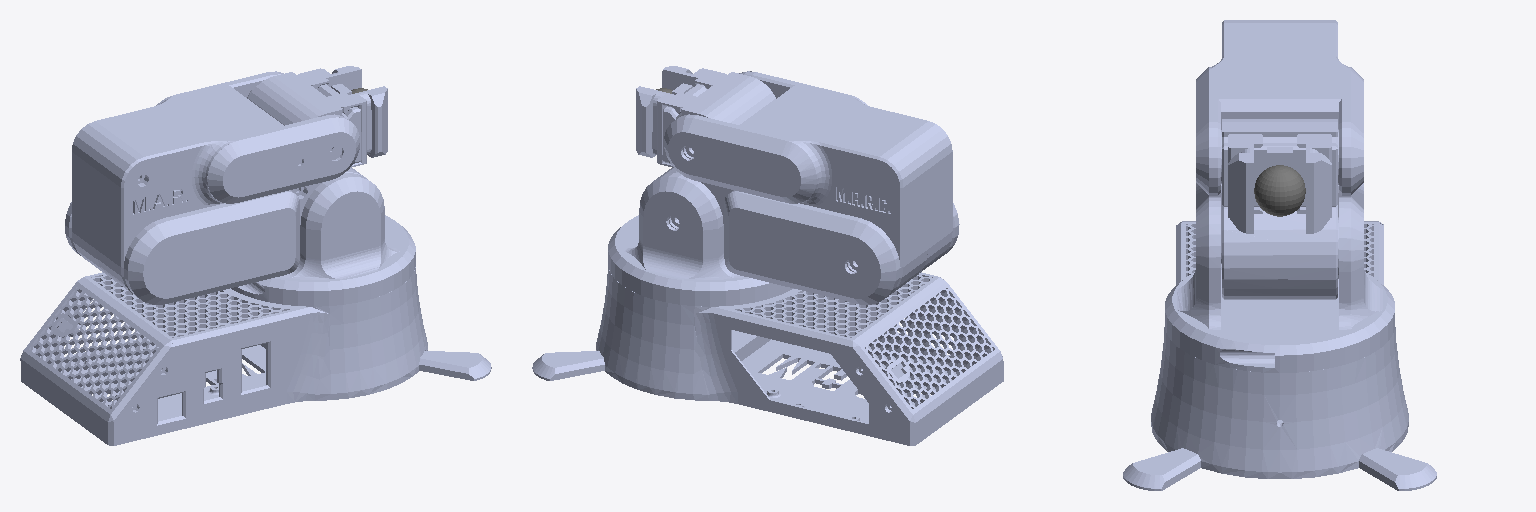
The robot description file, URDF, robot "marc":

<!-- This URDF was automatically created by SolidWorks to URDF Exporter! Originally created by [author] ([email redacted]) 
     Commit Version: 1.6.0-4-g7f85cfe  Build Version: 1.6.7995.38578
     For more information, please see http://wiki.ros.org/sw_urdf_exporter -->
<robot
  name="marc">
  <link
    name="base_link">
    <inertial>
      <origin
        xyz="-0.019326 -0.0015141 0.022149"
        rpy="0 0 0" />
      <mass
        value="0.13112" />
      <inertia
        ixx="0.00013465"
        ixy="-7.8684E-06"
        ixz="-7.1281E-09"
        iyy="0.00021462"
        iyz="2.4514E-06"
        izz="0.0003101" />
    </inertial>
    <visual>
      <origin
        xyz="0 0 0"
        rpy="0 0 0" />
      <geometry>
        <mesh
          filename="package://marc/meshes/base_link.STL" />
      </geometry>
      <material
        name="">
        <color
          rgba="0.79216 0.81961 0.93333 1" />
      </material>
    </visual>
    <collision>
      <origin
        xyz="0 0 0"
        rpy="0 0 0" />
      <geometry>
        <mesh
          filename="package://marc/meshes/base_link.STL" />
      </geometry>
    </collision>
  </link>
  <link
    name="shoulder_link">
    <inertial>
      <origin
        xyz="0.0014606 -0.0022185 0.0033448"
        rpy="0 0 0" />
      <mass
        value="0.055252" />
      <inertia
        ixx="1.5922E-05"
        ixy="1.9743E-08"
        ixz="-8.4955E-08"
        iyy="3.3192E-05"
        iyz="7.5752E-08"
        izz="3.0288E-05" />
    </inertial>
    <visual>
      <origin
        xyz="0 0 0"
        rpy="0 0 0" />
      <geometry>
        <mesh
          filename="package://marc/meshes/shoulder_link.STL" />
      </geometry>
      <material
        name="">
        <color
          rgba="0.79216 0.81961 0.93333 1" />
      </material>
    </visual>
    <collision>
      <origin
        xyz="0 0 0"
        rpy="0 0 0" />
      <geometry>
        <mesh
          filename="package://marc/meshes/shoulder_link.STL" />
      </geometry>
    </collision>
  </link>
  <joint
    name="shoulder_joint"
    type="revolute">
    <origin
      xyz="-0.0020793 0 0.0535"
      rpy="0 0 0" />
    <parent
      link="base_link" />
    <child
      link="shoulder_link" />
    <axis
      xyz="-0.038837 0 0.99925" />
    <limit
      lower="-1.57"
      upper="1.57"
      effort="10.5"
      velocity="1.5" />
  </joint>
  <link
    name="upper_arm_link">
    <inertial>
      <origin
        xyz="-0.044247 -0.034465 -0.00034531"
        rpy="0 0 0" />
      <mass
        value="0.074807" />
      <inertia
        ixx="1.773E-05"
        ixy="-2.1148E-06"
        ixz="-5.6426E-07"
        iyy="8.8688E-05"
        iyz="1.1069E-08"
        izz="8.1791E-05" />
    </inertial>
    <visual>
      <origin
        xyz="0 0 0"
        rpy="0 0 0" />
      <geometry>
        <mesh
          filename="package://marc/meshes/upper_arm_link.STL" />
      </geometry>
      <material
        name="">
        <color
          rgba="0.79216 0.81961 0.93333 1" />
      </material>
    </visual>
    <collision>
      <origin
        xyz="0 0 0"
        rpy="0 0 0" />
      <geometry>
        <mesh
          filename="package://marc/meshes/upper_arm_link.STL" />
      </geometry>
    </collision>
  </link>
  <joint
    name="upper_arm_joint"
    type="revolute">
    <origin
      xyz="0.0020885 0.0295 0.022"
      rpy="0 0 0" />
    <parent
      link="shoulder_link" />
    <child
      link="upper_arm_link" />
    <axis
      xyz="0 -1 0" />
    <limit
      lower="-3.1"
      upper="0"
      effort="10.5"
      velocity="1.5" />
  </joint>
  <link
    name="elbow_link">
    <inertial>
      <origin
        xyz="0.024238 -0.030035 0.02628"
        rpy="0 0 0" />
      <mass
        value="0.068113" />
      <inertia
        ixx="2.9647E-05"
        ixy="-1.2047E-06"
        ixz="-1.1982E-05"
        iyy="8.2704E-05"
        iyz="-1.1176E-07"
        izz="6.1384E-05" />
    </inertial>
    <visual>
      <origin
        xyz="0 0 0"
        rpy="0 0 0" />
      <geometry>
        <mesh
          filename="package://marc/meshes/elbow_link.STL" />
      </geometry>
      <material
        name="">
        <color
          rgba="0.79216 0.81961 0.93333 1" />
      </material>
    </visual>
    <collision>
      <origin
        xyz="0 0 0"
        rpy="0 0 0" />
      <geometry>
        <mesh
          filename="package://marc/meshes/elbow_link.STL" />
      </geometry>
    </collision>
  </link>
  <joint
    name="elbow_joint"
    type="revolute">
    <origin
      xyz="-0.09 0 0"
      rpy="0 0 0" />
    <parent
      link="upper_arm_link" />
    <child
      link="elbow_link" />
    <axis
      xyz="0 -1 0" />
    <limit
      lower="0"
      upper="3.1"
      effort="10.5"
      velocity="1.5" />
  </joint>
  <link
    name="wrist_link">
    <inertial>
      <origin
        xyz="0.0031699 -0.028754 8.9392E-06"
        rpy="0 0 0" />
      <mass
        value="0.027875" />
      <inertia
        ixx="9.2319E-06"
        ixy="-4.769E-07"
        ixz="9.4703E-10"
        iyy="3.9611E-06"
        iyz="-1.3442E-09"
        izz="8.8951E-06" />
    </inertial>
    <visual>
      <origin
        xyz="0 0 0"
        rpy="0 0 0" />
      <geometry>
        <mesh
          filename="package://marc/meshes/wrist_link.STL" />
      </geometry>
      <material
        name="">
        <color
          rgba="0.79216 0.81961 0.93333 1" />
      </material>
    </visual>
    <collision>
      <origin
        xyz="0 0 0"
        rpy="0 0 0" />
      <geometry>
        <mesh
          filename="package://marc/meshes/wrist_link.STL" />
      </geometry>
    </collision>
  </link>
  <joint
    name="wrist_joint"
    type="revolute">
    <origin
      xyz="0.082703 0 0.0355"
      rpy="0 0 0" />
    <parent
      link="elbow_link" />
    <child
      link="wrist_link" />
    <axis
      xyz="0 1 0" />
    <limit
      lower="-1.57"
      upper="1.57"
      effort="10.5"
      velocity="1.5" />
  </joint>
  <link
    name="ee_link">
    <inertial>
      <origin
        xyz="-0.0057014 1.249E-16 -0.00036353"
        rpy="0 0 0" />
      <mass
        value="0.010567" />
      <inertia
        ixx="9.4856E-07"
        ixy="2.2264E-21"
        ixz="1.3268E-09"
        iyy="1.2637E-06"
        iyz="8.2213E-21"
        izz="4.7796E-07" />
    </inertial>
    <visual>
      <origin
        xyz="0 0 0"
        rpy="0 0 0" />
      <geometry>
        <mesh
          filename="package://marc/meshes/ee_link.STL" />
      </geometry>
      <material
        name="">
        <color
          rgba="0.79216 0.81961 0.93333 1" />
      </material>
    </visual>
    <collision>
      <origin
        xyz="0 0 0"
        rpy="0 0 0" />
      <geometry>
        <mesh
          filename="package://marc/meshes/ee_link.STL" />
      </geometry>
    </collision>
  </link>
  <joint
    name="ee_joint"
    type="fixed">
    <origin
      xyz="0.031 -0.0295 8.7404E-05"
      rpy="0 0 0" />
    <parent
      link="wrist_link" />
    <child
      link="ee_link" />
    <axis
      xyz="0 0 0" />
    <limit
      lower="0"
      upper="0"
      effort="0"
      velocity="0" />
  </joint>
  
    <link
    name="ee_rotation_x_link">
    <inertial>
      <origin xyz="0 0 0" rpy="0 0 0" />
      <mass value="0.001" />
      <inertia ixx="0.000001" ixy="0" ixz="0" iyy="0.000001" iyz="0" izz="0.000001" />
    </inertial>
    <visual>
      <origin xyz="0 0 0" rpy="0 0 0" />
      <geometry>
        <sphere radius="0.01" />
      </geometry>
      <material name="gray">
        <color rgba="0.5 0.5 0.5 1.0" />
      </material>
    </visual>
  </link>
  <joint
    name="ee_rotation_joint_x"
    type="revolute">
    <origin xyz="0 0 0" rpy="0 0 0" />
    <parent link="ee_link" />
    <child link="ee_rotation_x_link" />
    <axis xyz="1 0 0" />
    <limit lower="-3.14" upper="3.14" effort="5" velocity="1" />
  </joint>
  <link
    name="ee_rotation_y_link">
    <inertial>
      <origin xyz="0 0 0" rpy="0 0 0" />
      <mass value="0.001" />
      <inertia ixx="0.000001" ixy="0" ixz="0" iyy="0.000001" iyz="0" izz="0.000001" />
    </inertial>
    <visual>
      <origin xyz="0 0 0" rpy="0 0 0" />
      <geometry>
        <sphere radius="0.01" />
      </geometry>
      <material name="gray">
        <color rgba="0.5 0.5 0.5 1.0" />
      </material>
    </visual>
  </link>
  <joint
    name="ee_rotation_joint_y"
    type="revolute">
    <origin xyz="0 0 0" rpy="0 0 0" />
    <parent link="ee_rotation_x_link" />
    <child link="ee_rotation_y_link" />
    <axis xyz="0 1 0" />
    <limit lower="-3.14" upper="3.14" effort="5" velocity="1" />
  </joint>
  <link
    name="ee_rotation_z_link">
    <inertial>
      <origin xyz="0 0 0" rpy="0 0 0" />
      <mass value="0.001" />
      <inertia ixx="0.000001" ixy="0" ixz="0" iyy="0.000001" iyz="0" izz="0.000001" />
    </inertial>
    <visual>
      <origin xyz="0 0 0" rpy="0 0 0" />
      <geometry>
        <sphere radius="0.01" />
      </geometry>
      <material name="gray">
        <color rgba="0.5 0.5 0.5 1.0" />
      </material>
    </visual>
  </link>
  <joint
    name="ee_rotation_joint_z"
    type="revolute">
    <origin xyz="0 0 0" rpy="0 0 0" />
    <parent link="ee_rotation_y_link" />
    <child link="ee_rotation_z_link" />
    <axis xyz="0 0 1" />
    <limit lower="-3.14" upper="3.14" effort="5" velocity="1" />
  </joint>
</robot>

--- What the picture shows (computed from the rendered views, not written in the file) ---
The picture shows the robot from 3 angles, left to right: view 1: azimuth 30°, elevation 25°; view 2: azimuth 150°, elevation 25°; view 3: azimuth 270°, elevation 25°; orthographic projection.
Model marc with 9 links and 8 joints (7 revolute, 1 fixed), rooted at base_link, posed every joint at zero.
Visible links, largest first — view 1: base_link, elbow_link, upper_arm_link, shoulder_link, wrist_link, ee_link; view 2: base_link, elbow_link, upper_arm_link, shoulder_link, wrist_link, ee_link; view 3: base_link, shoulder_link, elbow_link, upper_arm_link, ee_link, wrist_link, ee_rotation_x_link.
Boxes of the visible links, box(x1,y1,x2,y2) form: base_link: box(20, 267, 491, 445); elbow_link: box(72, 71, 359, 293); upper_arm_link: box(65, 168, 365, 304); shoulder_link: box(231, 173, 415, 306); wrist_link: box(247, 72, 361, 163); ee_link: box(298, 66, 387, 167); base_link: box(532, 267, 1003, 445); elbow_link: box(664, 71, 952, 293); upper_arm_link: box(658, 168, 959, 304); shoulder_link: box(608, 173, 793, 306); wrist_link: box(662, 72, 775, 163); ee_link: box(636, 66, 726, 167); base_link: box(1123, 221, 1436, 490); shoulder_link: box(1165, 197, 1394, 372); elbow_link: box(1196, 20, 1363, 195); upper_arm_link: box(1196, 183, 1363, 299); ee_link: box(1228, 134, 1331, 233); wrist_link: box(1221, 119, 1338, 206); ee_rotation_x_link: box(1254, 165, 1305, 216).
Size in the robot's own frame: 0.187 by 0.1219 by 0.126 metres.
6 mesh visuals loaded from 6 distinct referenced files (6 binary STL).
